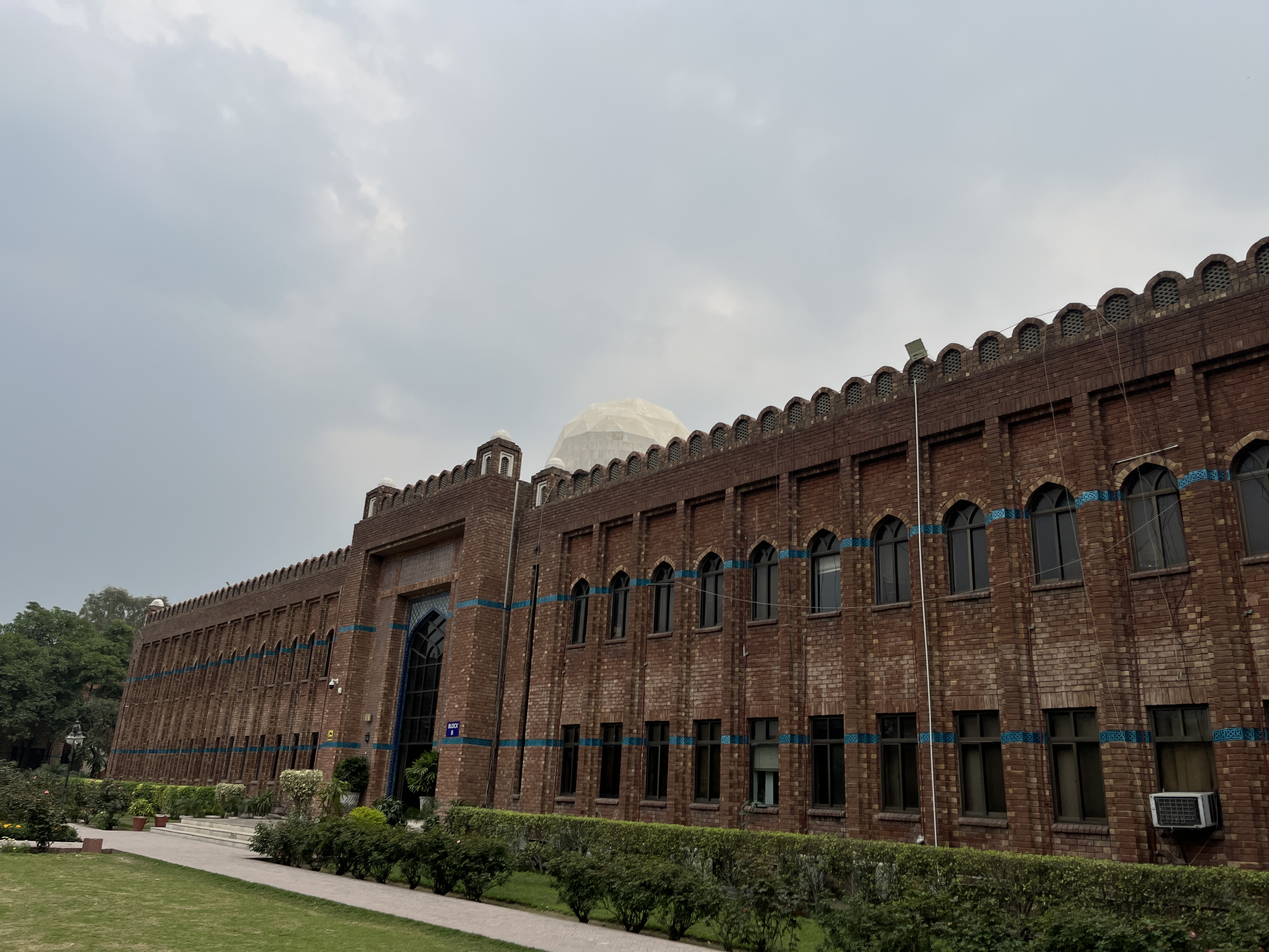Block B: (120, 232, 1269, 872)
